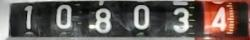digits: (132, 4, 150, 29), (55, 4, 72, 28), (95, 8, 112, 32), (210, 6, 226, 31), (174, 8, 189, 32), (24, 5, 32, 28)
